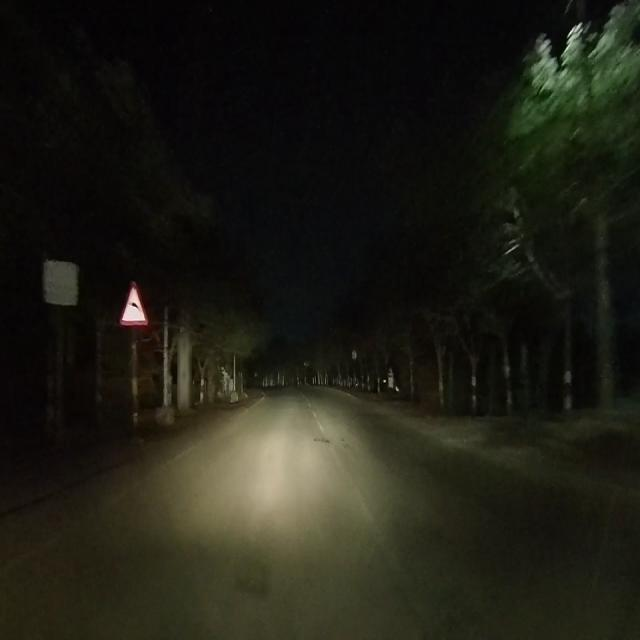left-hand-curve: (124, 280, 146, 322)
